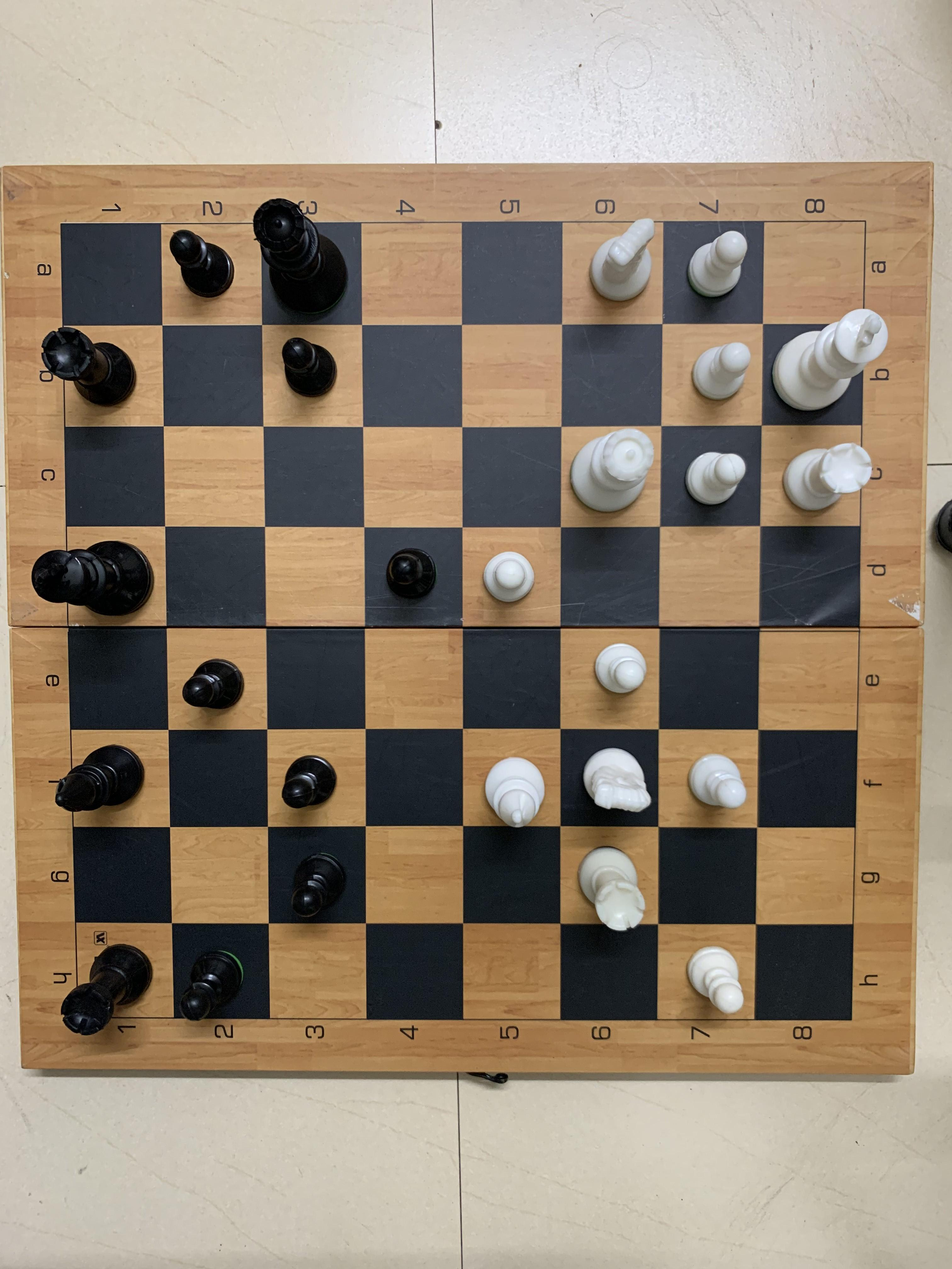black_bishop: (47, 734, 161, 823)
black_king: (20, 524, 156, 628)
black_pawn: (156, 631, 256, 735), (173, 933, 270, 1036), (271, 738, 354, 832), (264, 329, 353, 416), (157, 222, 250, 304), (368, 529, 453, 616), (275, 839, 354, 930)
black_queen: (244, 191, 353, 324)
black_rook: (35, 323, 156, 422), (58, 945, 153, 1034)
white_bishop: (475, 742, 562, 838)
white_king: (774, 304, 896, 426)
white_knight: (571, 216, 673, 315), (570, 745, 652, 823)
white_pawn: (663, 932, 760, 1033), (570, 639, 664, 722), (680, 227, 760, 312), (674, 441, 759, 521), (475, 532, 547, 614), (674, 329, 750, 406), (672, 745, 751, 817)
white_queen: (567, 427, 659, 524)
white_rook: (564, 828, 655, 936), (568, 833, 659, 932), (782, 427, 873, 519)
